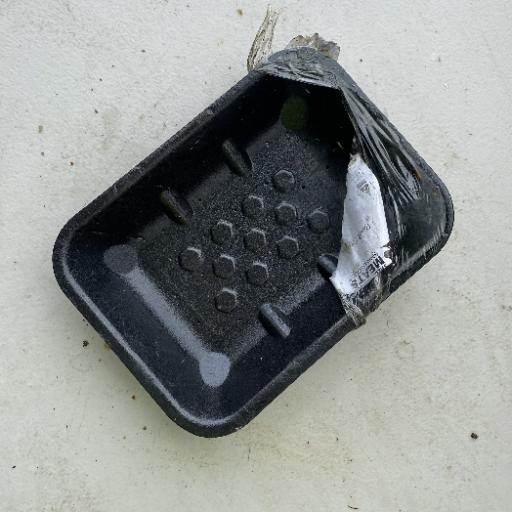Plastic: (50, 31, 456, 439)
